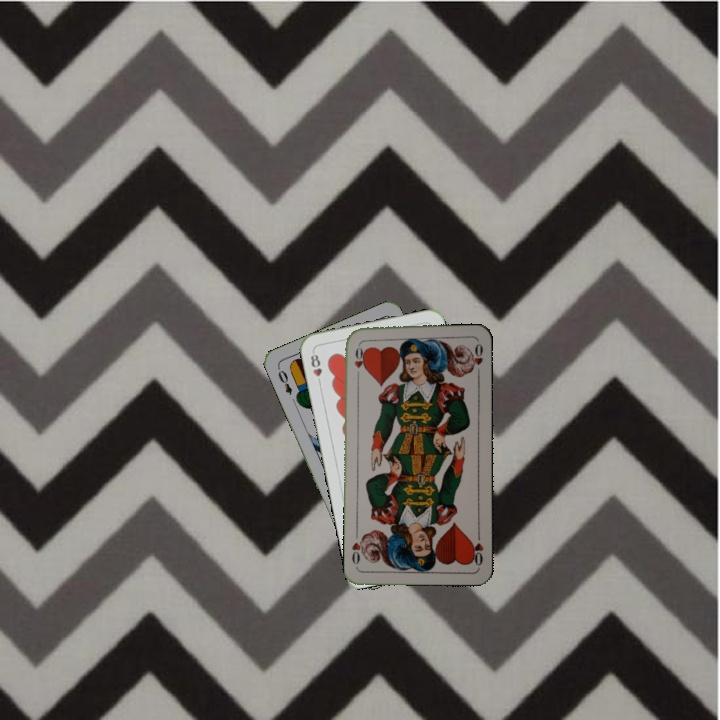EO: (273, 363, 295, 397)
H8: (307, 348, 325, 388)
HO: (468, 528, 486, 568), (350, 340, 366, 380)
